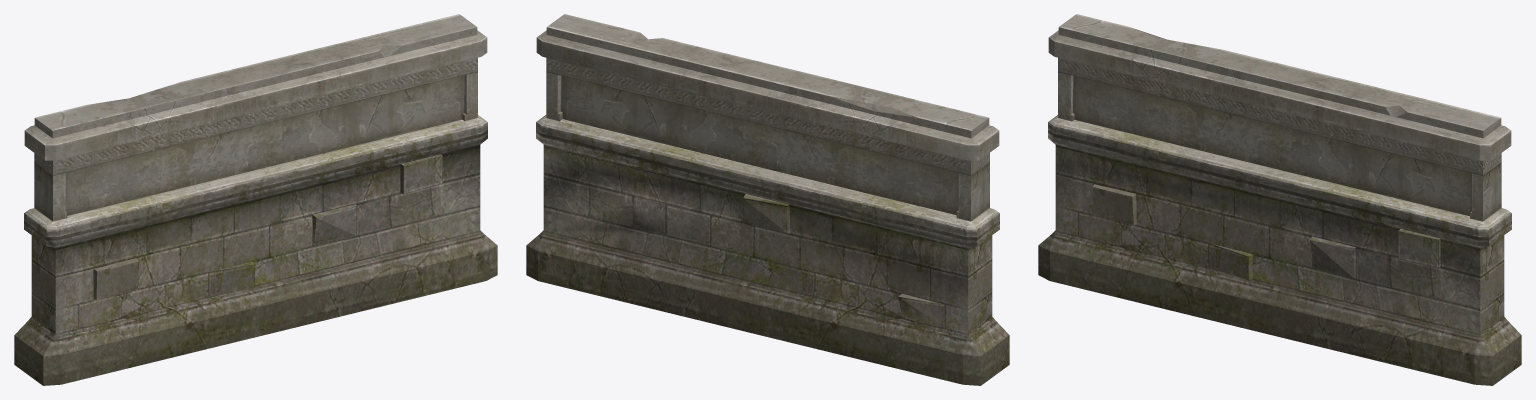
Rendered from bg_atm_etc_cemetery03a_sm_ljd.FBX.
3 renders of one model, left to right at view 1: azimuth 30°, elevation 25°; view 2: azimuth 150°, elevation 25°; view 3: azimuth 330°, elevation 25°, orthographic.
Parts seen in each view (by area): view 1: bg_atm_etc_cemetery03a_sm_ljd; view 2: bg_atm_etc_cemetery03a_sm_ljd; view 3: bg_atm_etc_cemetery03a_sm_ljd.
Part boxes in pixels (bbox=[...]): bg_atm_etc_cemetery03a_sm_ljd: bbox=[14, 14, 497, 385]; bg_atm_etc_cemetery03a_sm_ljd: bbox=[526, 14, 1009, 385]; bg_atm_etc_cemetery03a_sm_ljd: bbox=[1038, 14, 1521, 385].
Size of the model in its own units: 342 by 178 by 46.04.
